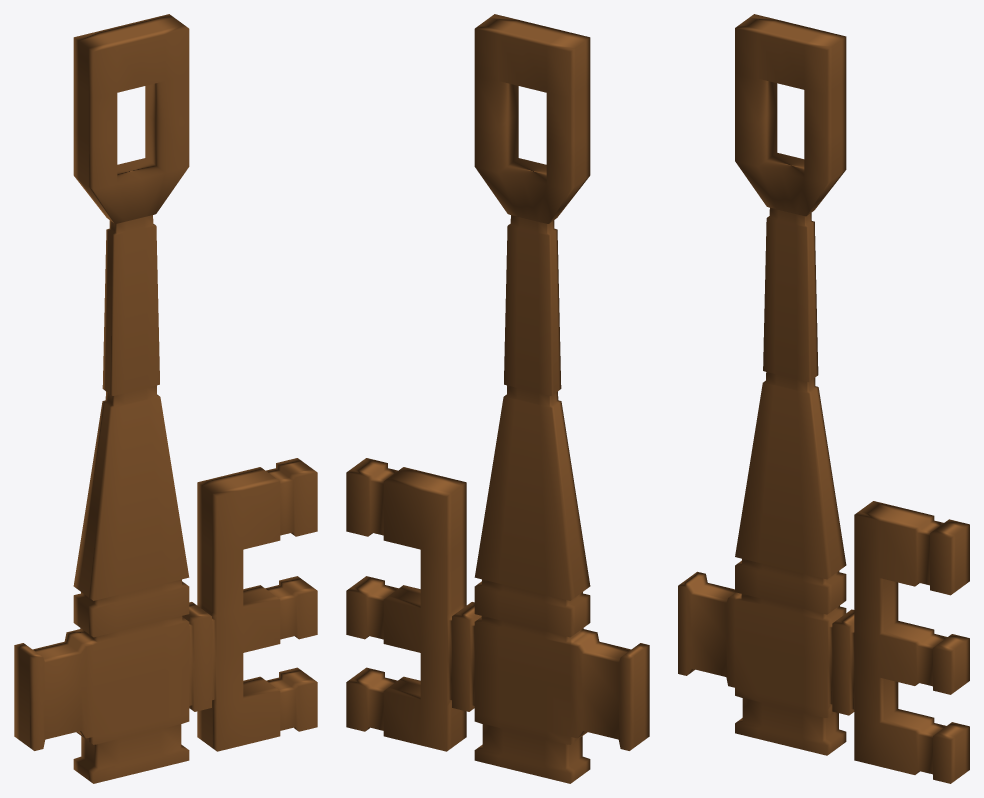
File: Llave.fbx
3 renders of one model, left to right at view 1: azimuth 30°, elevation 25°; view 2: azimuth 150°, elevation 25°; view 3: azimuth 330°, elevation 25°, orthographic. The views are drawn at different scales.
Visible parts, largest first — view 1: Cube; view 2: Cube; view 3: Cube.
Boxes of the visible parts, x1,y1,x2,y2 form: Cube: [14, 14, 317, 783]; Cube: [346, 14, 649, 783]; Cube: [678, 14, 969, 783].
Size of the model in its own units: 0.8094 by 2 by 0.0988.
